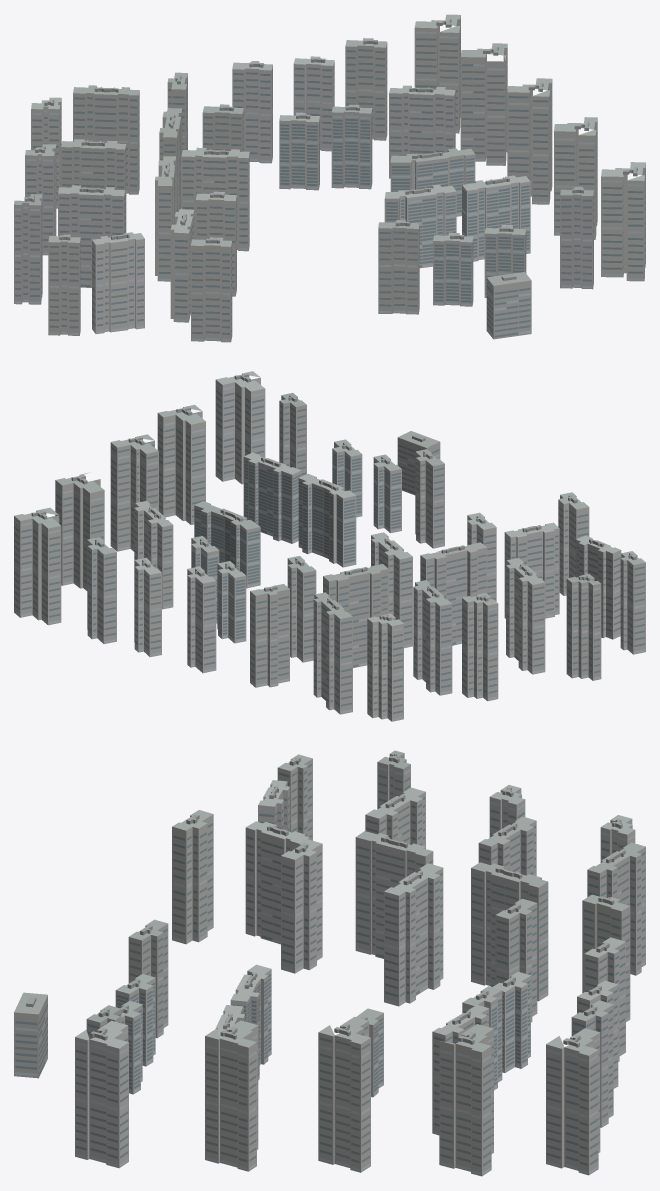
The model's file is apt-a13822001.glb.
The picture shows the model from 3 angles, top to bottom: view 1: azimuth 30°, elevation 25°; view 2: azimuth 150°, elevation 25°; view 3: azimuth 270°, elevation 25°; orthographic projection. The views are drawn at different scales.
Parts seen in each view (by area): view 1: apt-a13822001; view 2: apt-a13822001; view 3: apt-a13822001.
Part boxes in pixels (<box>): apt-a13822001: <box>14,14,645,342</box>; apt-a13822001: <box>14,371,645,721</box>; apt-a13822001: <box>14,750,645,1176</box>.
Size of the model in its own units: 450 by 89 by 386.
